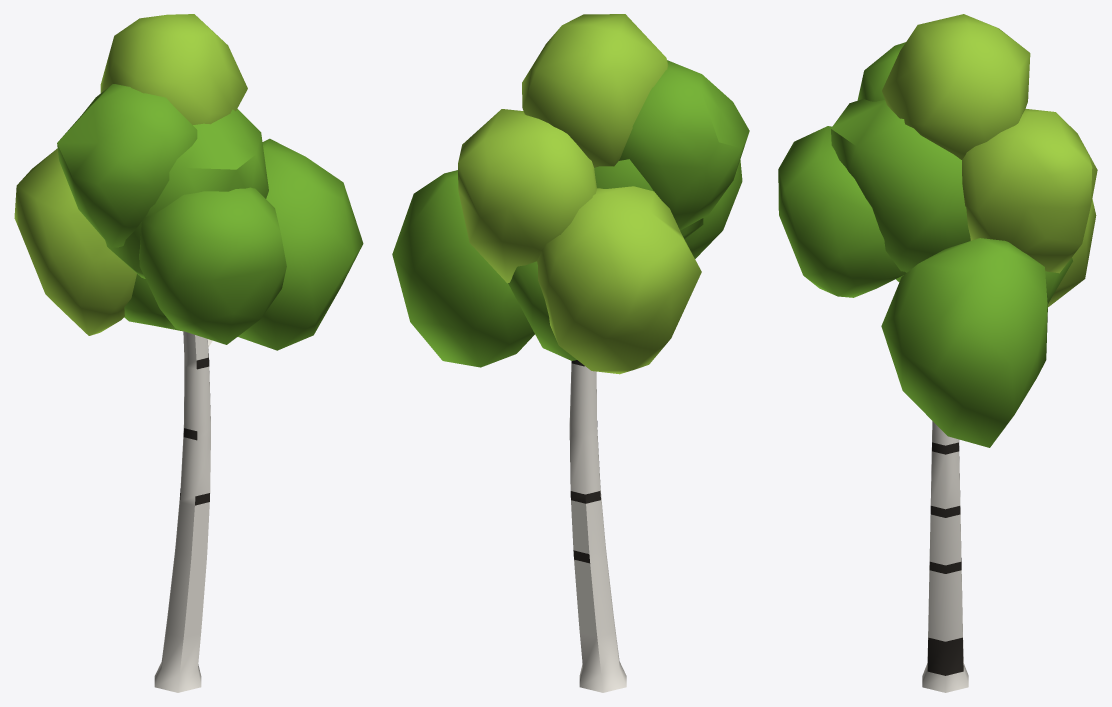
File: birch_tree.glb
3 renders of one model, left to right at view 1: azimuth 30°, elevation 25°; view 2: azimuth 150°, elevation 25°; view 3: azimuth 270°, elevation 25°, orthographic.
Parts seen in each view (by area): view 1: birch_tree; view 2: birch_tree; view 3: birch_tree.
Boxes of the visible parts, left/top/right/bottom form: birch_tree: left=14, top=14, right=363, bottom=692; birch_tree: left=392, top=14, right=749, bottom=692; birch_tree: left=778, top=14, right=1097, bottom=692.
Size of the model in its own units: 2.47 by 5.14 by 2.26.
